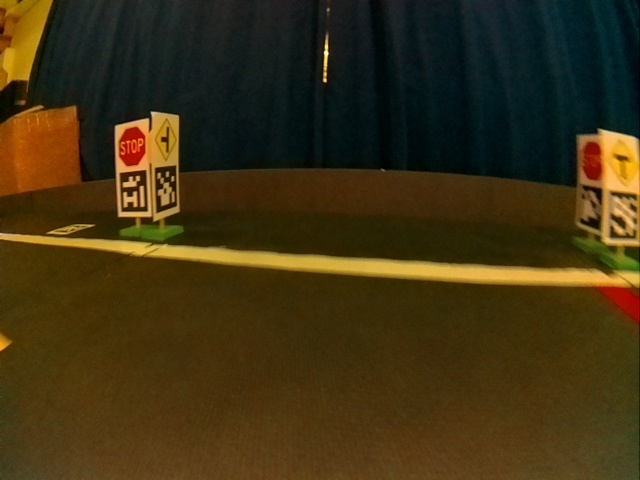Intersection sign: (603, 135, 637, 181), (155, 119, 177, 161)
QR code: (610, 193, 639, 239), (119, 169, 149, 211), (578, 187, 601, 230), (156, 164, 177, 211), (49, 223, 95, 235)
Stop sign: (117, 126, 146, 167), (579, 141, 602, 179)
